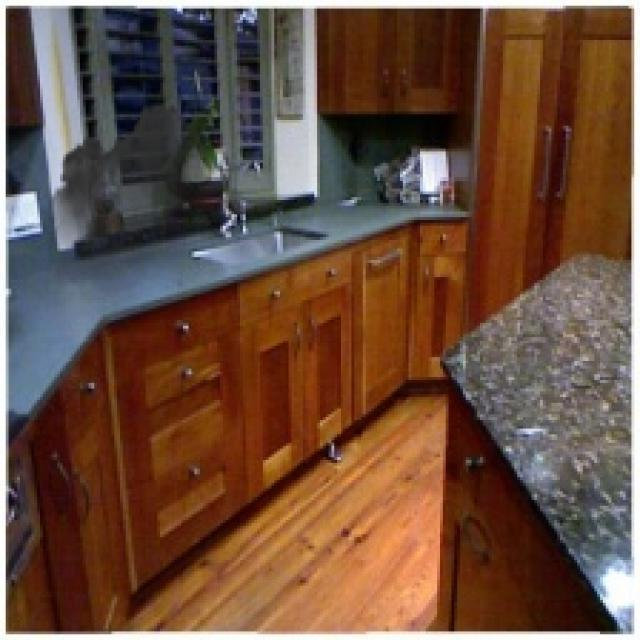Smoke: (42, 94, 248, 300)
